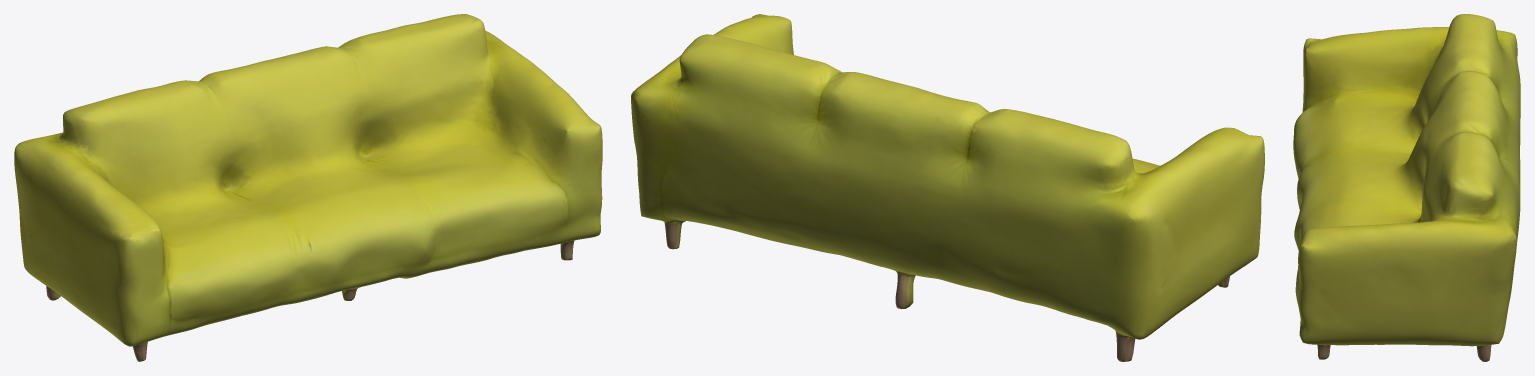
Rendered from sofa.glb.
The picture shows the model from 3 angles, left to right: view 1: azimuth 30°, elevation 25°; view 2: azimuth 150°, elevation 25°; view 3: azimuth 270°, elevation 25°; orthographic projection. The views are drawn at different scales.
Bounding box in the file's own units: 1.2 × 0.465 × 0.5427.
Materials: 1 (1 with a texture image).
